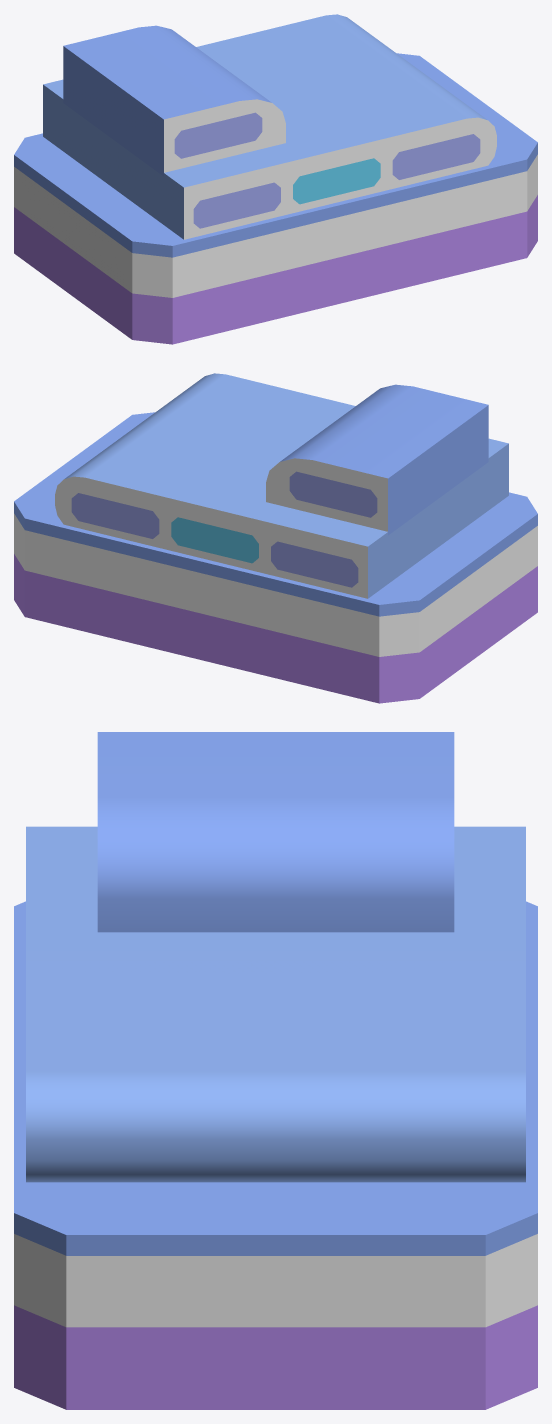
File: Building_040.fbx
3 views of the same model, one above another, from view 1: azimuth 30°, elevation 25°; view 2: azimuth 150°, elevation 25°; view 3: azimuth 270°, elevation 25° (orthographic). The views are drawn at different scales.
Visible parts, largest first — view 1: Building_040; view 2: Building_040; view 3: Building_040.
Boxes of the visible parts, x1=… form: Building_040: x1=14, y1=14, x2=537, y2=344; Building_040: x1=14, y1=373, x2=537, y2=703; Building_040: x1=14, y1=732, x2=537, y2=1409.
Bounding box in the file's own units: 35.01 × 16.84 × 22.09.
